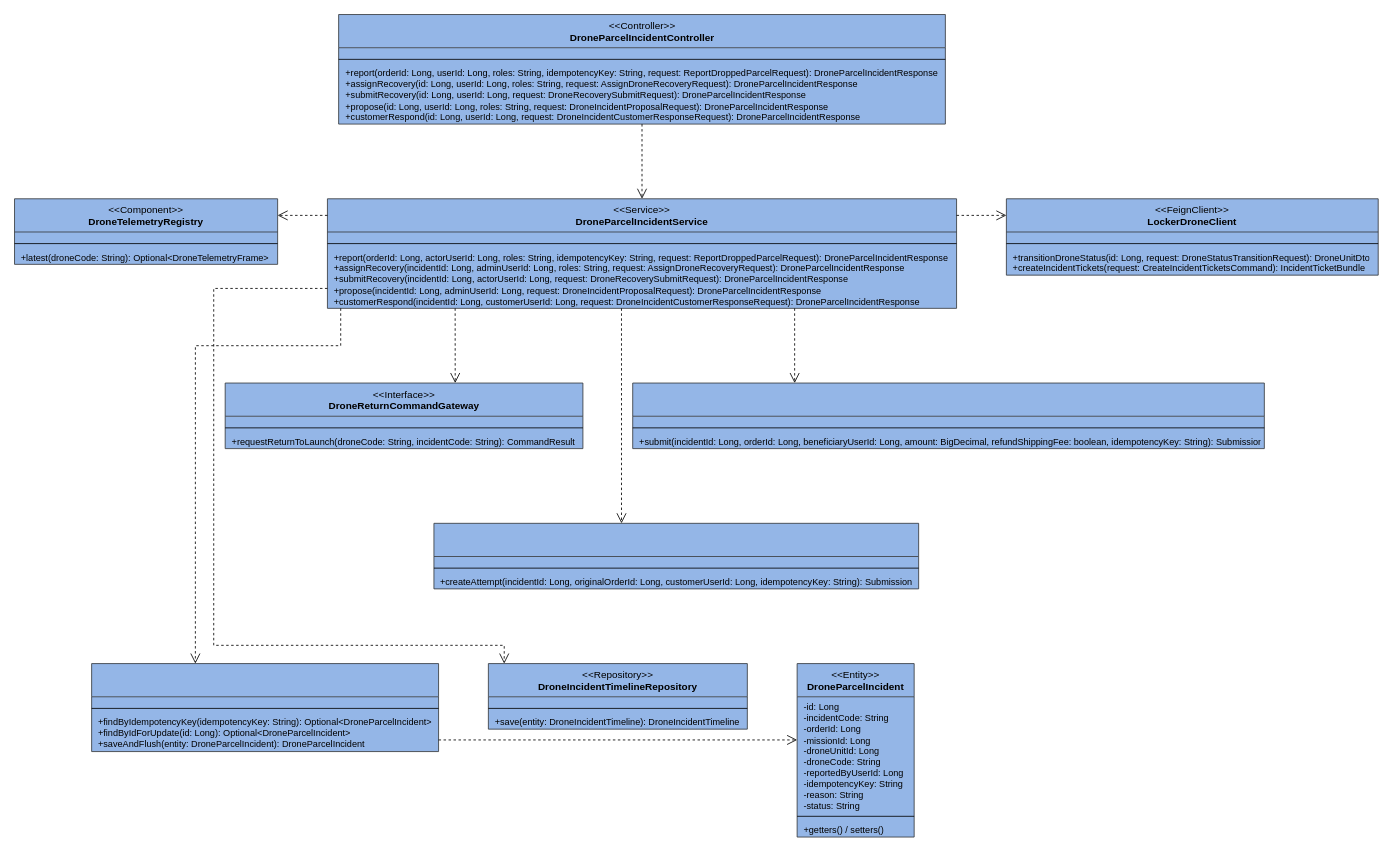
This 1393x854 diagram has some shape labels left out. Each missing label, with the box of its shape:
<<Interface>> IncidentCompensationGateway: (632, 382, 1264, 449)
<<Interface>> IncidentRedeliveryGateway: (433, 522, 919, 589)
<<Repository>> DroneParcelIncidentRepository: (91, 663, 439, 752)
